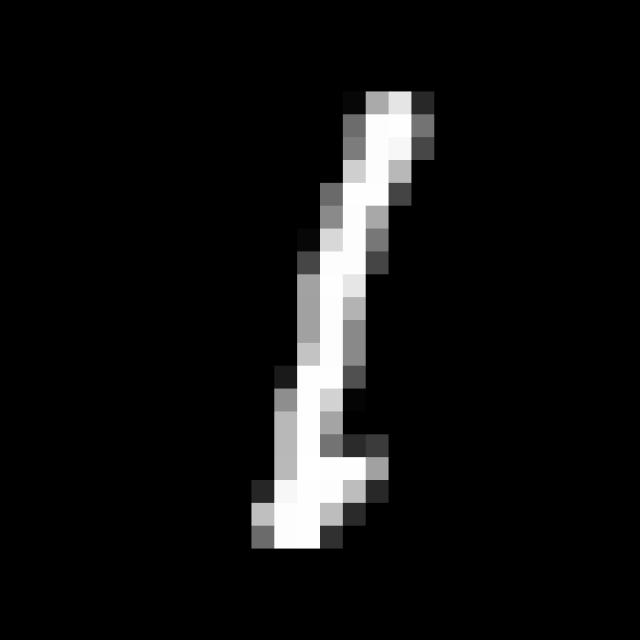one -1-: (229, 73, 445, 564)
